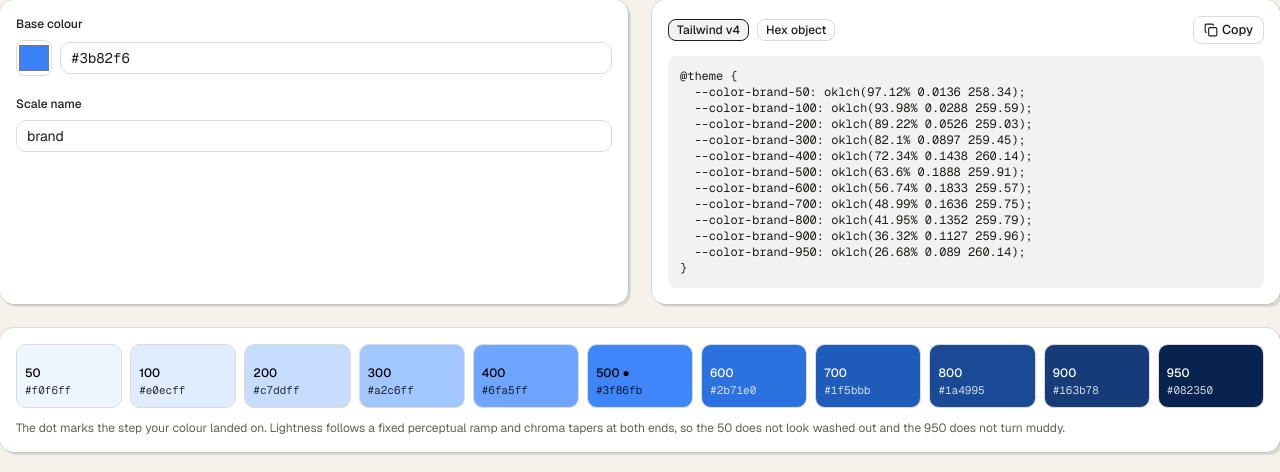
TailwindShadesTool › switches to a plain hex object
Click the button "Hex object": (796,30) left=757, top=19, right=836, bottom=41
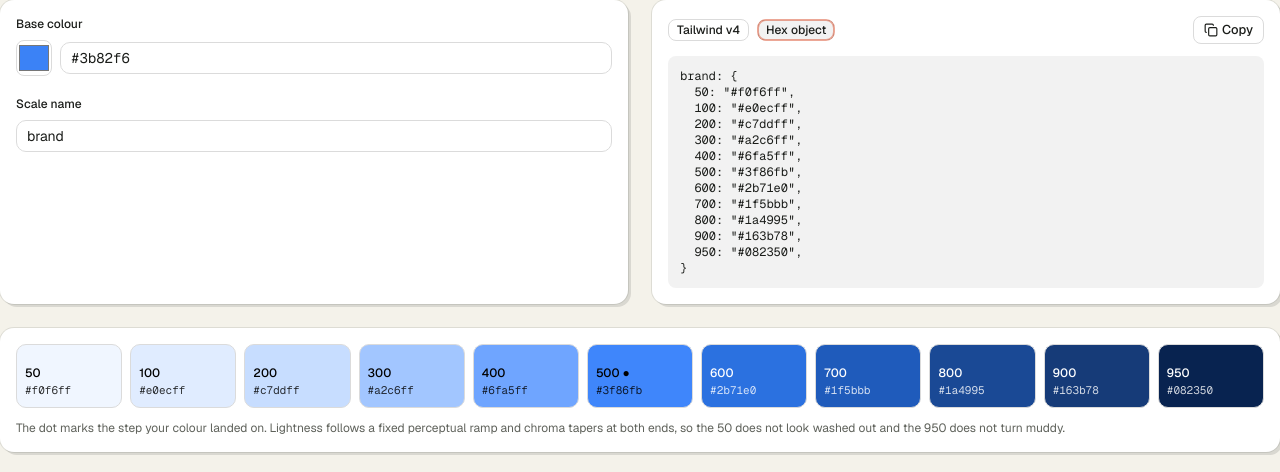
Result: the text "brand: {" shows "500: \"#" at left=680, top=68, right=802, bottom=276
Result: the text "@theme" is gone
